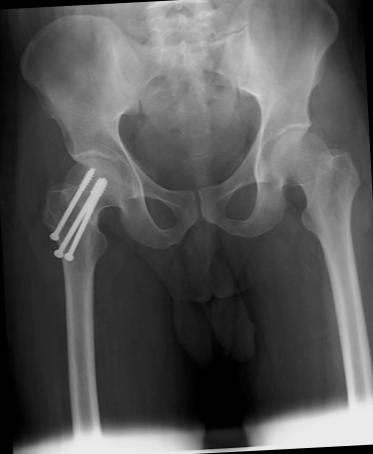fractured: (87, 210, 98, 228)
